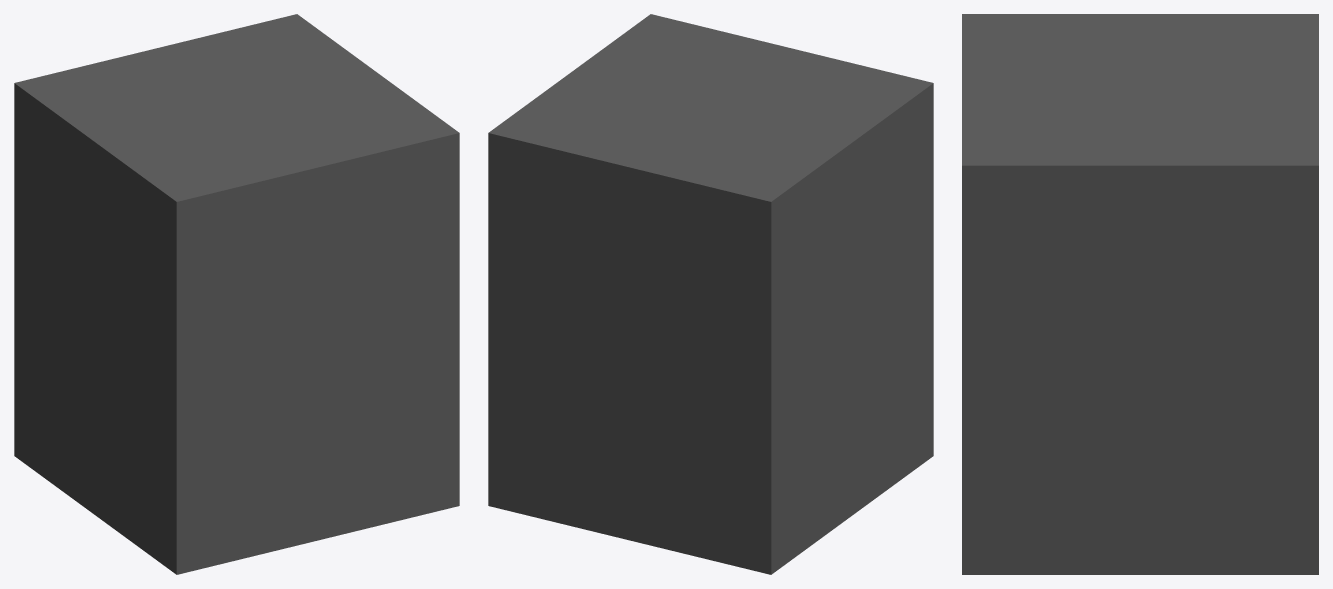
Rendered from Stair_Platform_1.fbx.
The picture shows the model from 3 angles, left to right: view 1: azimuth 30°, elevation 25°; view 2: azimuth 150°, elevation 25°; view 3: azimuth 270°, elevation 25°; orthographic projection. The views are drawn at different scales.
Visible parts, largest first — view 1: Stair_Platform_1; view 2: Stair_Platform_1; view 3: Stair_Platform_1.
Part boxes in pixels (<box>): Stair_Platform_1: <box>14,14,459,574</box>; Stair_Platform_1: <box>488,14,933,574</box>; Stair_Platform_1: <box>962,14,1318,574</box>.
Size of the model in its own units: 100 by 126 by 99.5.
